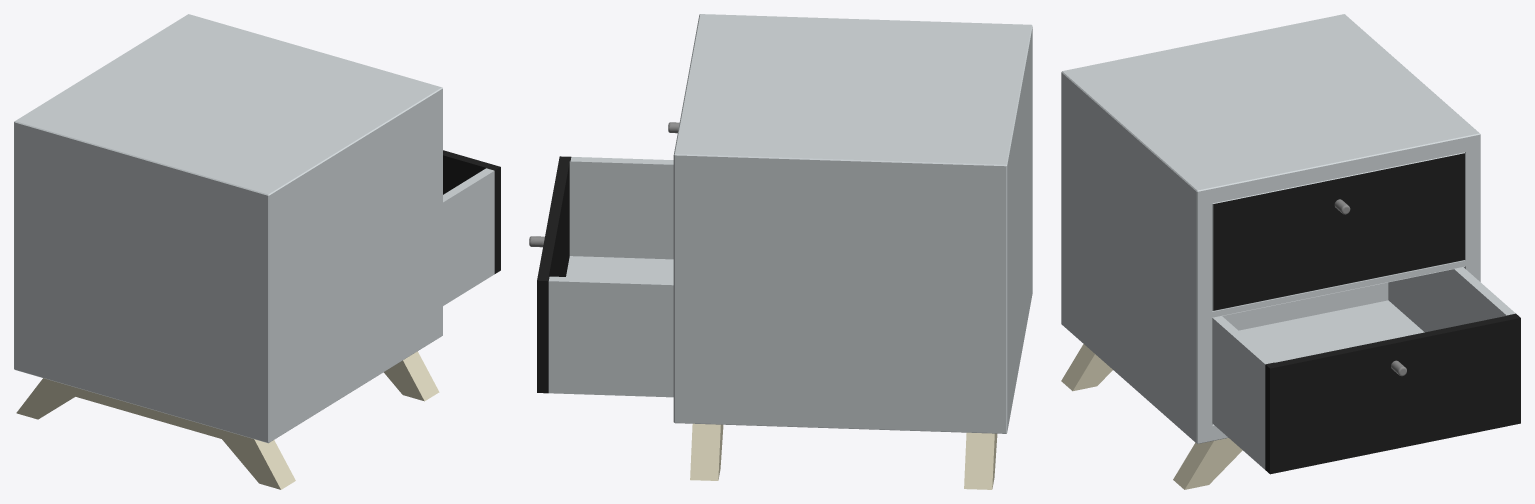
The model's file is nocniStolek.fbx.
3 views of the same model, side by side, from view 1: azimuth 30°, elevation 25°; view 2: azimuth 150°, elevation 25°; view 3: azimuth 270°, elevation 25° (orthographic). The views are drawn at different scales.
Visible parts, largest first — view 1: Cube, Cube.002; view 2: Cube, Cube.002; view 3: Cube, Cube.002.
Boxes of the visible parts, box(x1,y1,x2,y2) form: Cube: box(14, 14, 500, 443); Cube.002: box(16, 351, 439, 489); Cube: box(537, 14, 1032, 433); Cube.002: box(690, 423, 997, 489); Cube: box(1061, 14, 1520, 474); Cube.002: box(1061, 344, 1242, 489).
Size of the model in its own units: 559 by 354 by 485.
